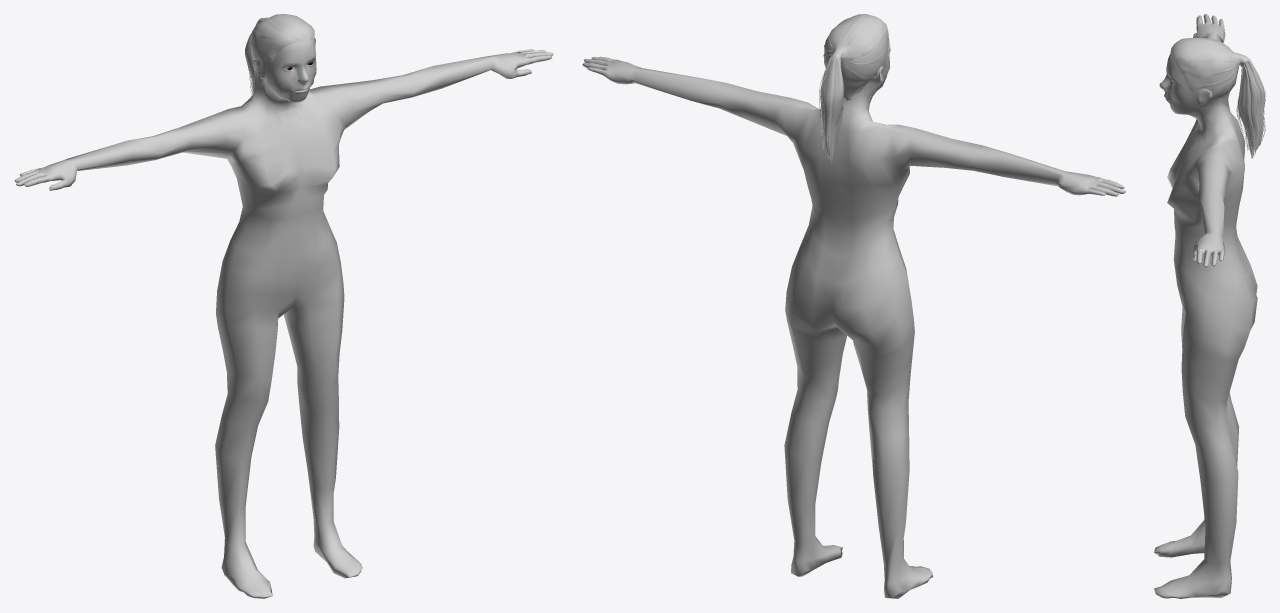
File: civil_Mulher_SemOsso.fbx
The picture shows the model from 3 angles, left to right: view 1: azimuth 30°, elevation 25°; view 2: azimuth 150°, elevation 25°; view 3: azimuth 270°, elevation 25°; orthographic projection. The views are drawn at different scales.
Visible parts, largest first — view 1: male1591Mesh, ponytail01Mesh; view 2: male1591Mesh, ponytail01Mesh; view 3: male1591Mesh, ponytail01Mesh.
Part boxes in pixels (x1=…): male1591Mesh: x1=14, y1=39, x2=553, y2=598; ponytail01Mesh: x1=245, y1=14, x2=315, y2=95; male1591Mesh: x1=582, y1=56, x2=1125, y2=598; ponytail01Mesh: x1=819, y1=14, x2=890, y2=163; male1591Mesh: x1=1154, y1=14, x2=1257, y2=598; ponytail01Mesh: x1=1170, y1=37, x2=1265, y2=158.
Bounding box in the file's own units: 61.33 × 60.58 × 11.52.
